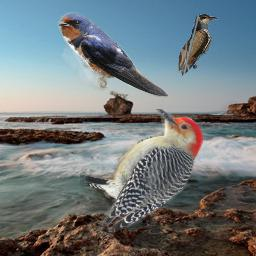Cuckoo: (178, 14, 227, 76)
Swallow: (57, 12, 169, 97)
Woodpecker: (80, 109, 204, 232)
